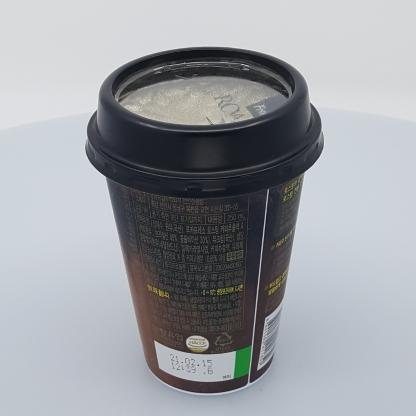--------------------: (85, 46, 324, 395)
